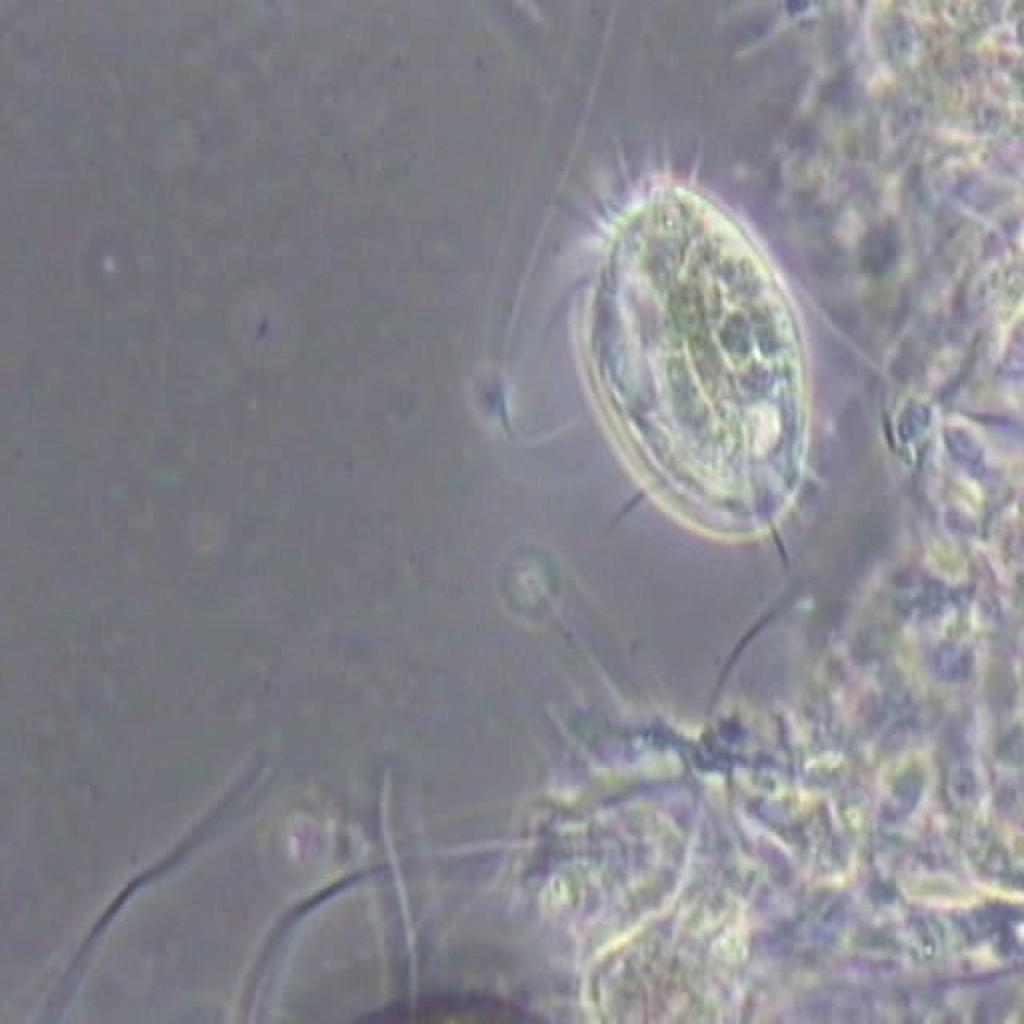Euplotes: (527, 126, 839, 584)
